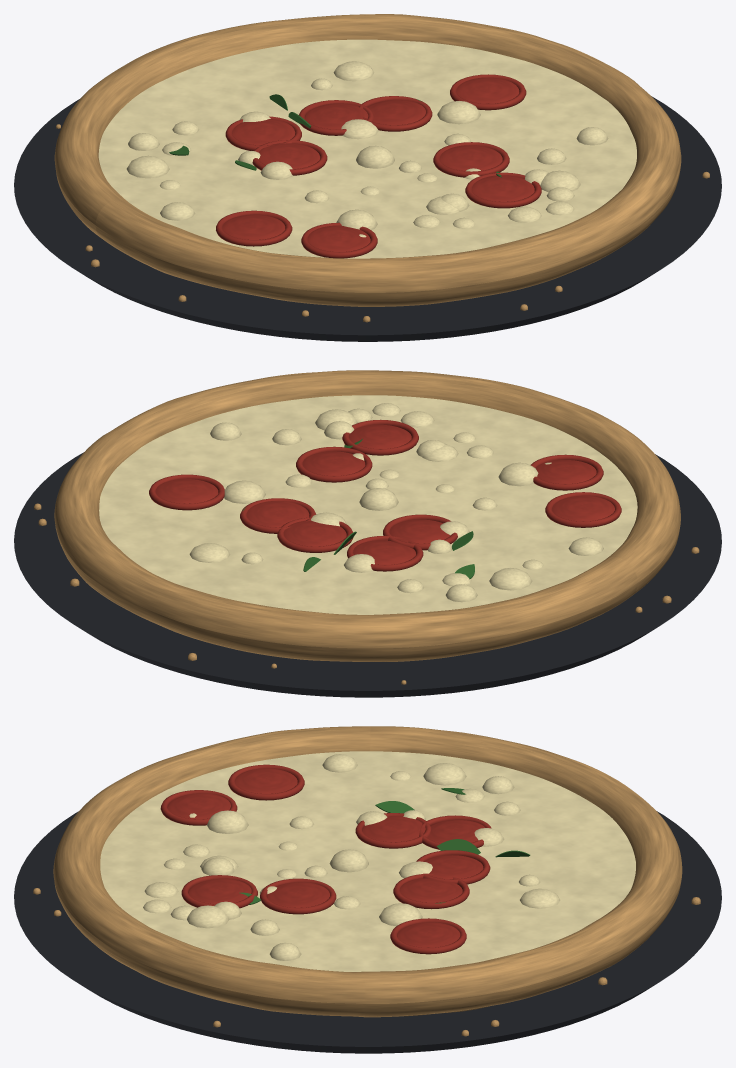
Rendered from pizza.glb.
3 views of the same model, one above another, from view 1: azimuth 30°, elevation 25°; view 2: azimuth 150°, elevation 25°; view 3: azimuth 270°, elevation 25° (orthographic).
Bounding box in the file's own units: 2.12 × 0.2081 × 2.12.
Materials: 6 (4 with a texture image).
